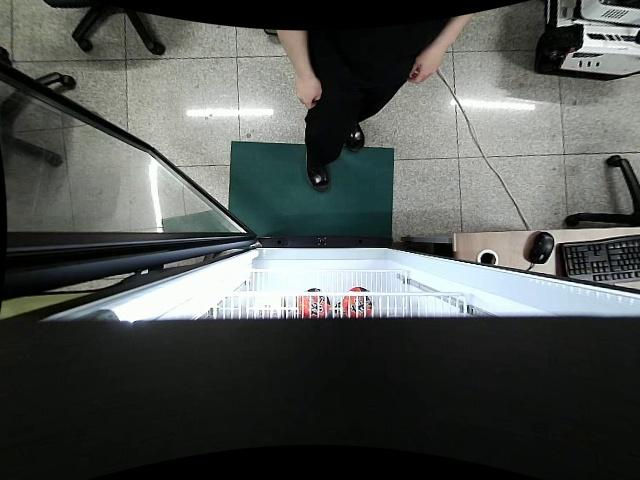00_hand: (407, 51, 445, 85), (296, 77, 323, 109)
